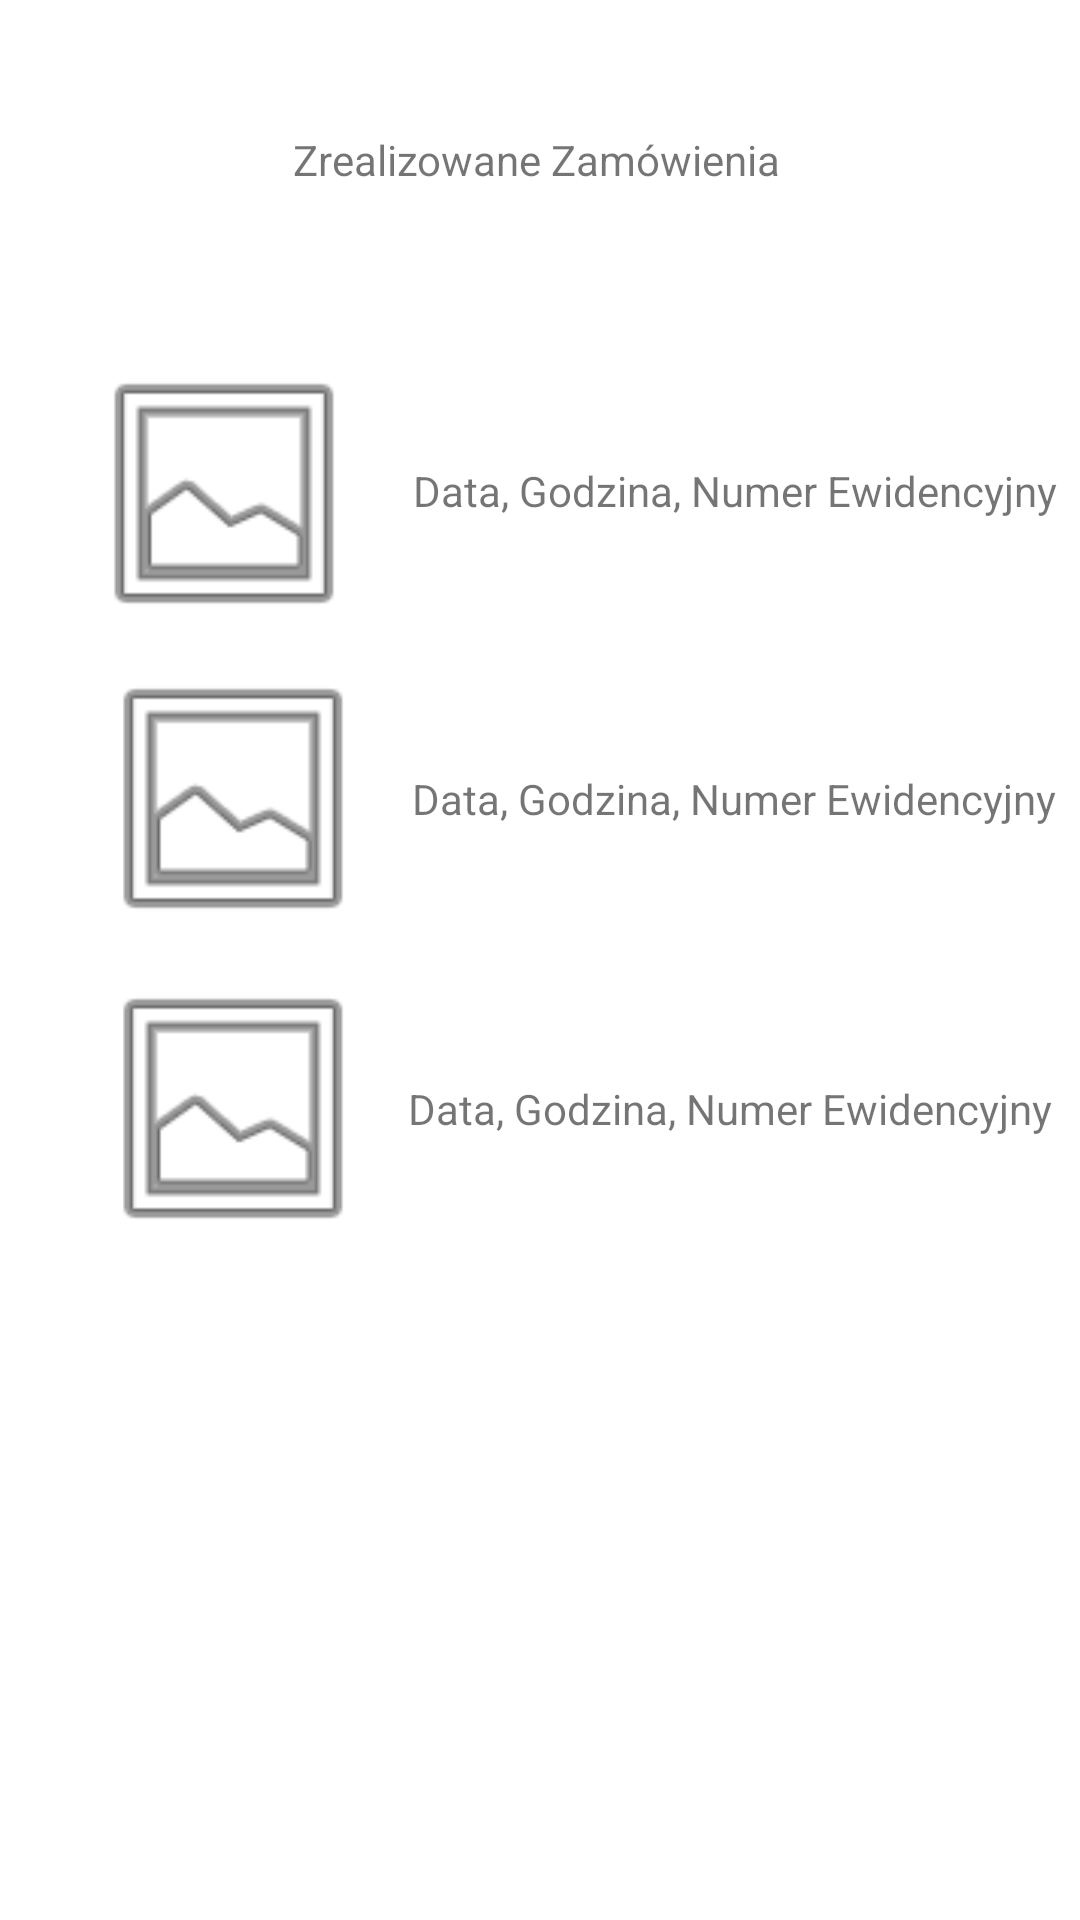

Locate icon controls on the screen. Image size 1080×1920, boxes as (left=x1, top=y1, right=x2, bottom=y2).
gallery: (left=114, top=383, right=334, bottom=604), (left=123, top=688, right=343, bottom=909), (left=123, top=998, right=343, bottom=1219)
